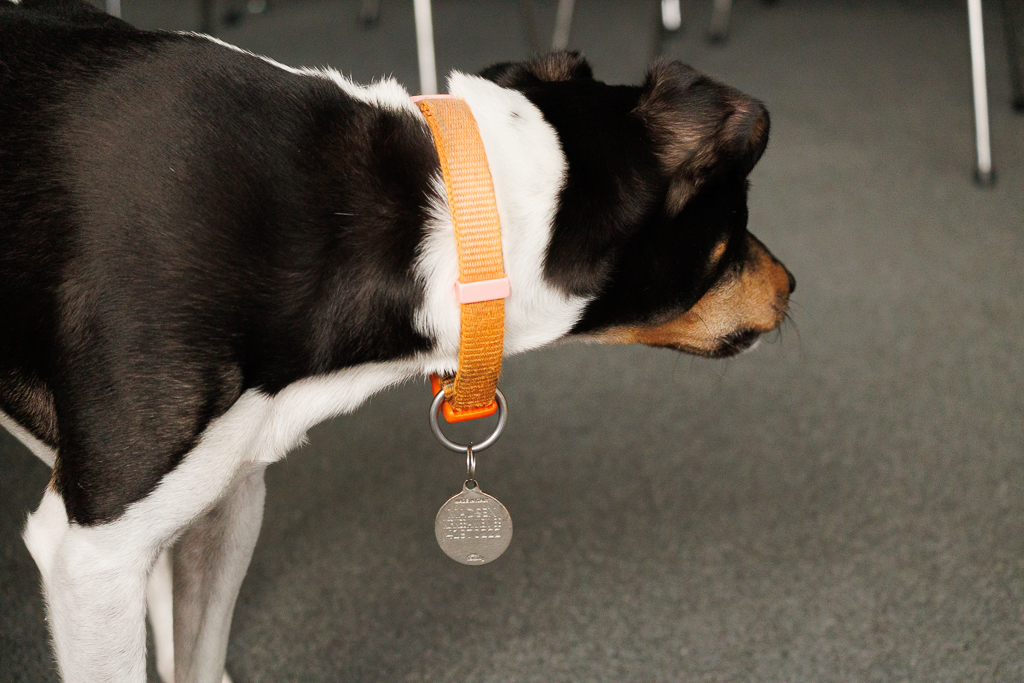Dog: (0, 0, 825, 683)
